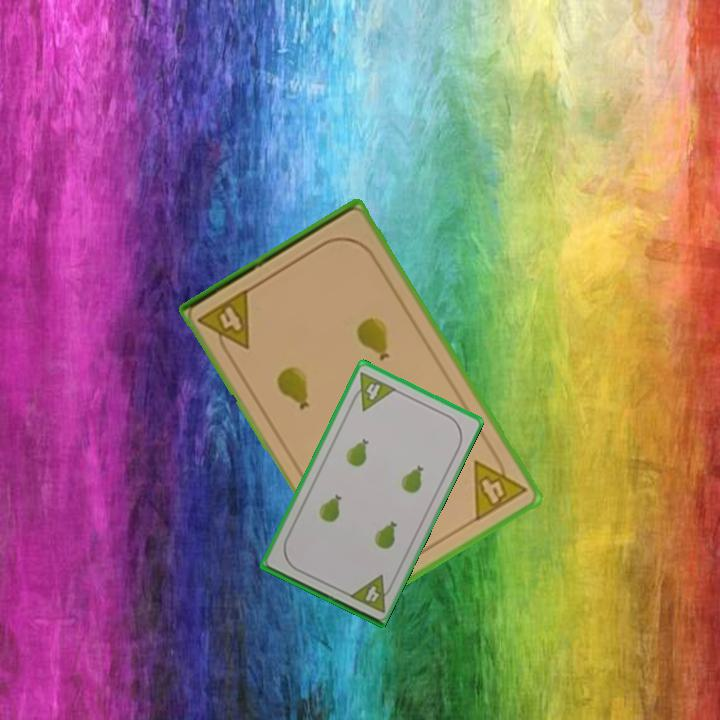4p: (470, 446, 530, 525), (194, 285, 254, 361), (346, 368, 399, 414), (345, 571, 397, 615)
